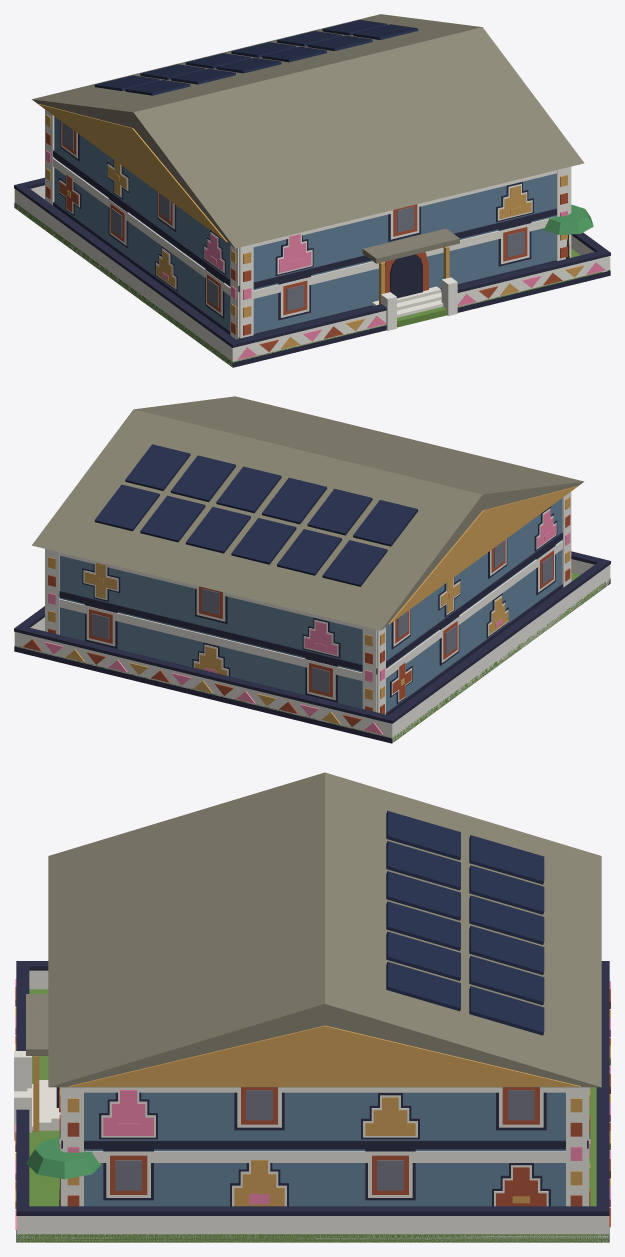
Rendered from house-2x2-2f-ndebele-a-solar.glb.
3 renders of one model, top to bottom at view 1: azimuth 30°, elevation 25°; view 2: azimuth 150°, elevation 25°; view 3: azimuth 270°, elevation 25°, orthographic. The views are drawn at different scales.
Parts seen in each view (by area): view 1: house-2x2-2f-ndebele-a-solar; view 2: house-2x2-2f-ndebele-a-solar; view 3: house-2x2-2f-ndebele-a-solar.
Part boxes in pixels (x1,y1,x2,y2): house-2x2-2f-ndebele-a-solar: [14, 14, 610, 367]; house-2x2-2f-ndebele-a-solar: [14, 396, 610, 743]; house-2x2-2f-ndebele-a-solar: [14, 772, 610, 1242].
Bounding box in the file's own units: 1.99 × 0.85 × 2.01.
1 material, 1 textured.
